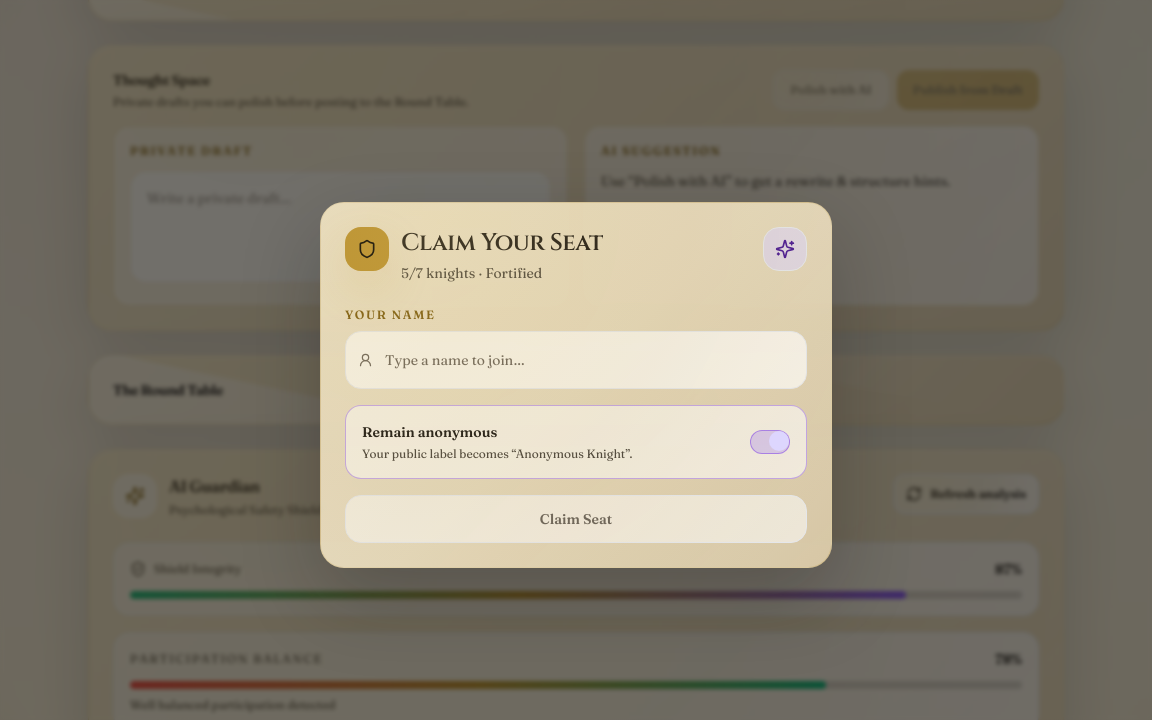
guardian alerts provide an explain action
(page scrolled)
Expected: the heading "Claim Your Seat" is shown, [401,227,603,259]
Type "Alice" into the field labelled "YOUR NAME" at (590,360), box [385,340,794,380]
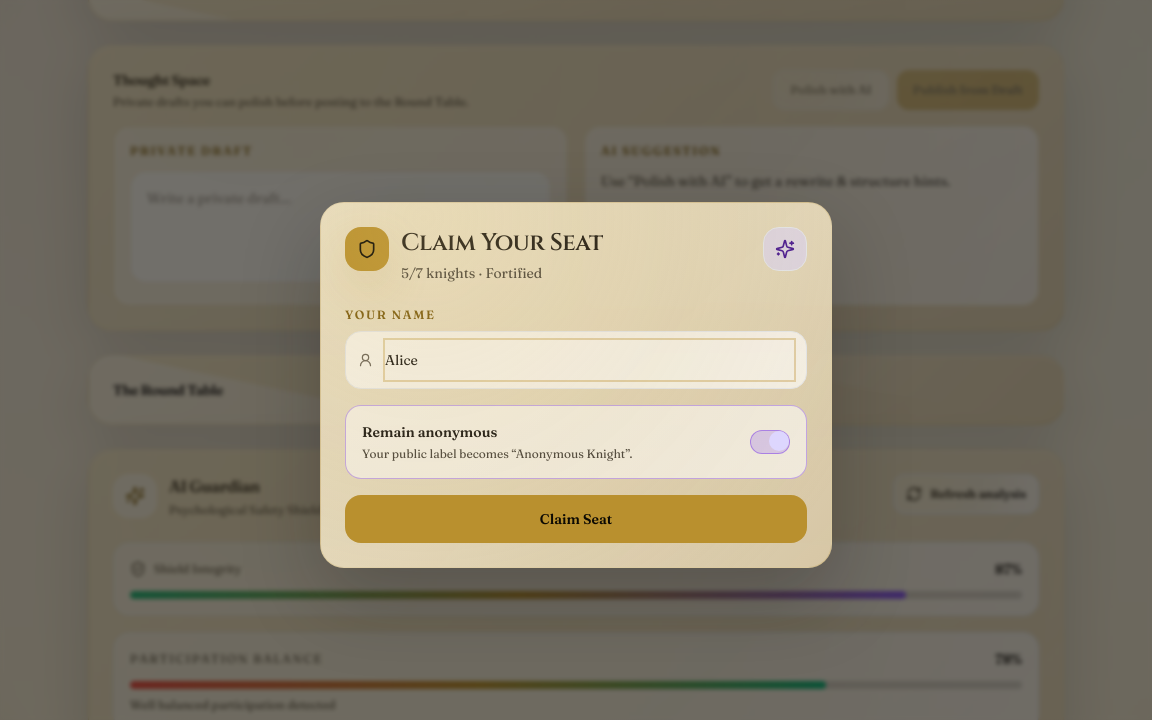
Click the button "Claim Seat" at (576,519), box [345,495,807,543]
(page scrolled)
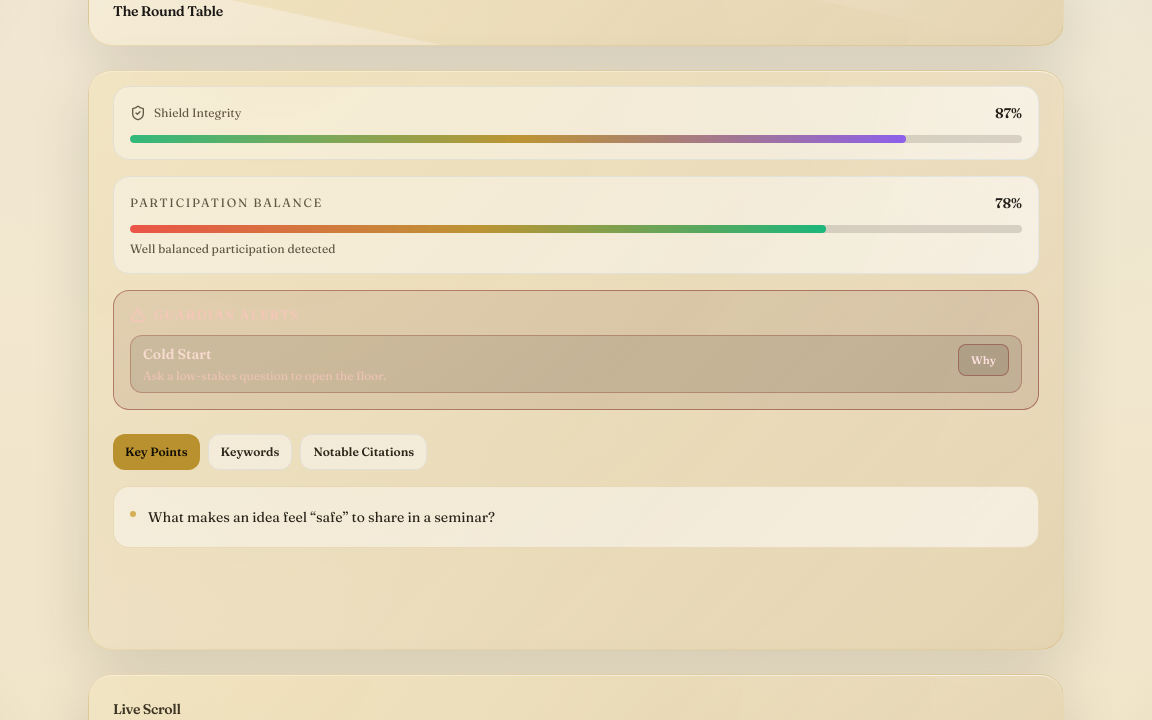
Expected: the text "GUARDIAN ALERTS" is shown, [130,307,299,323]
Click the button "Why" at (984,360), box [958,344,1009,376]
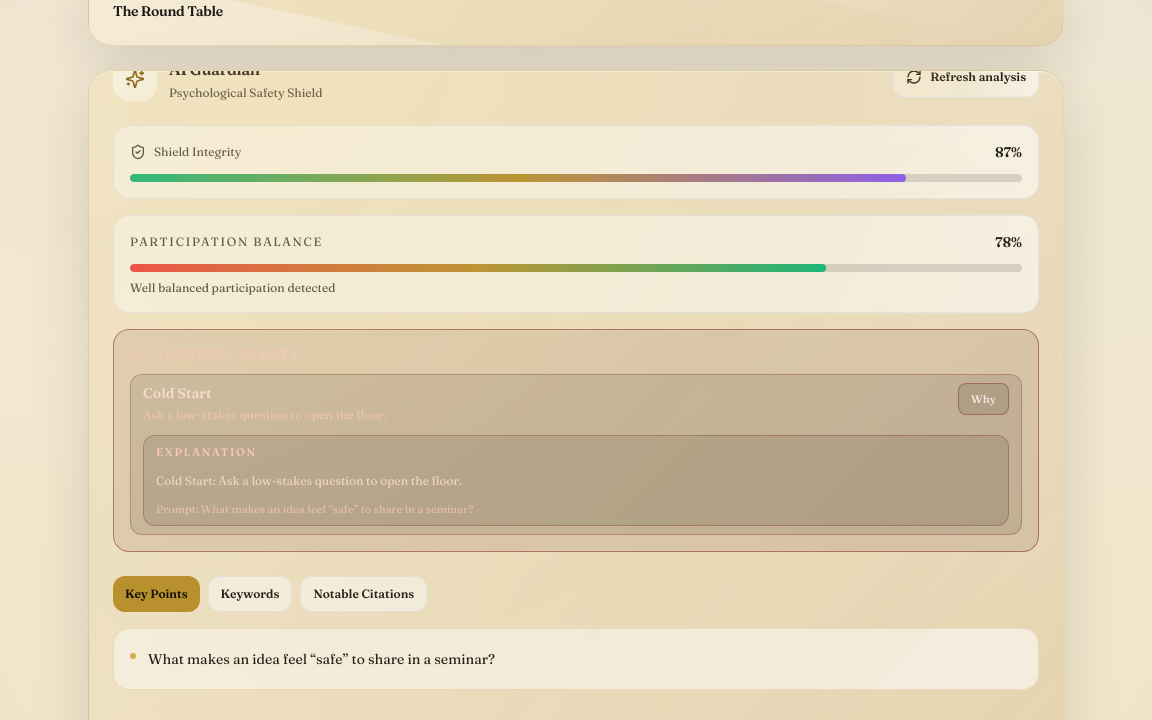
Expected: the text "EXPLANATION" is shown, [156,445,256,459]
